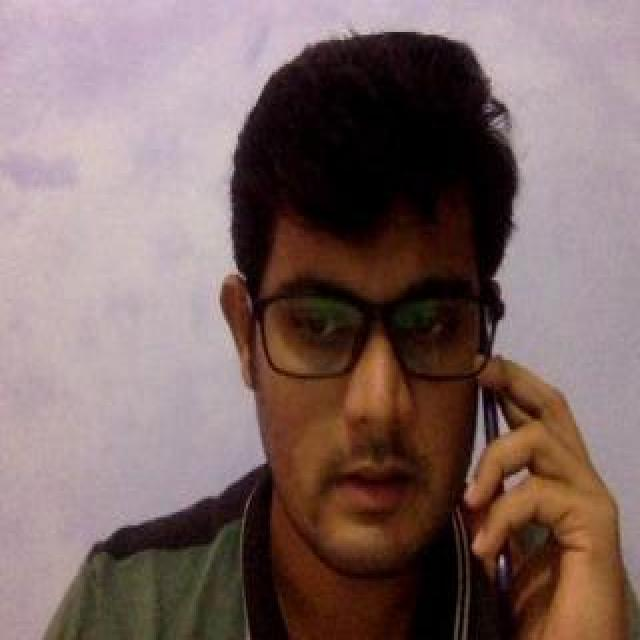phone: (477, 290, 523, 610)
